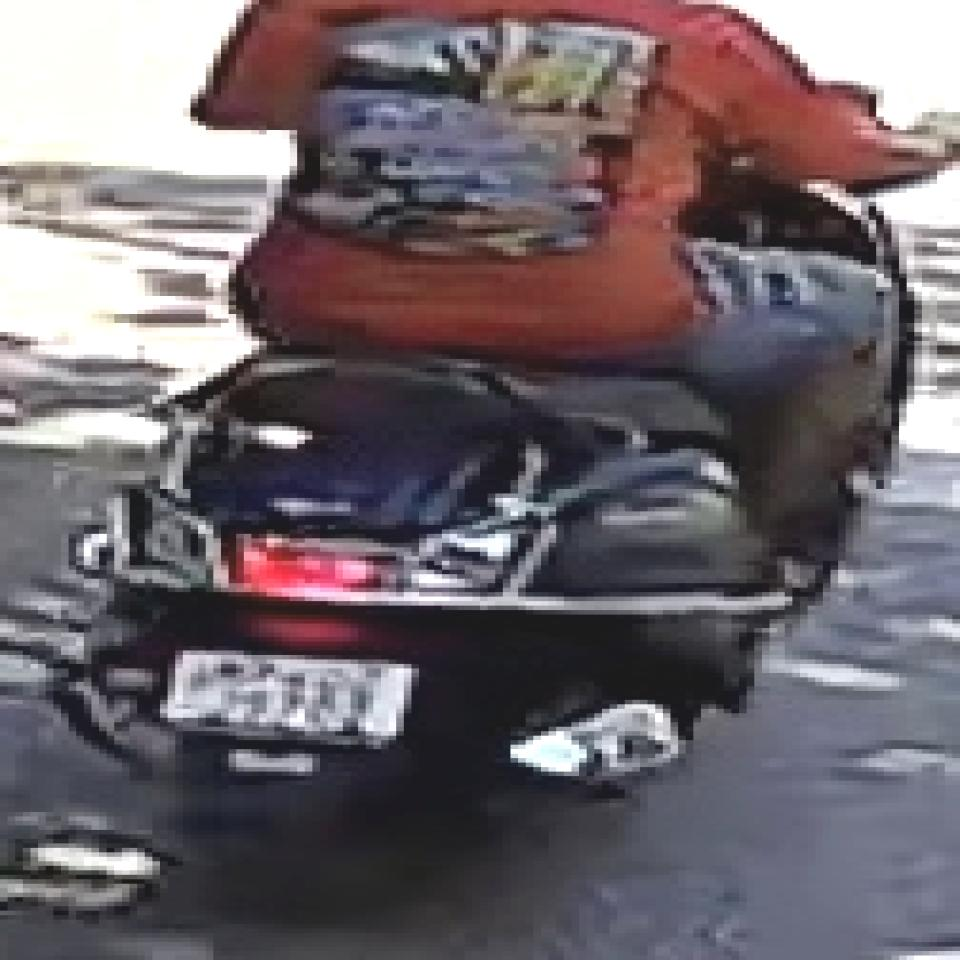tail_light: (236, 541, 391, 601)
